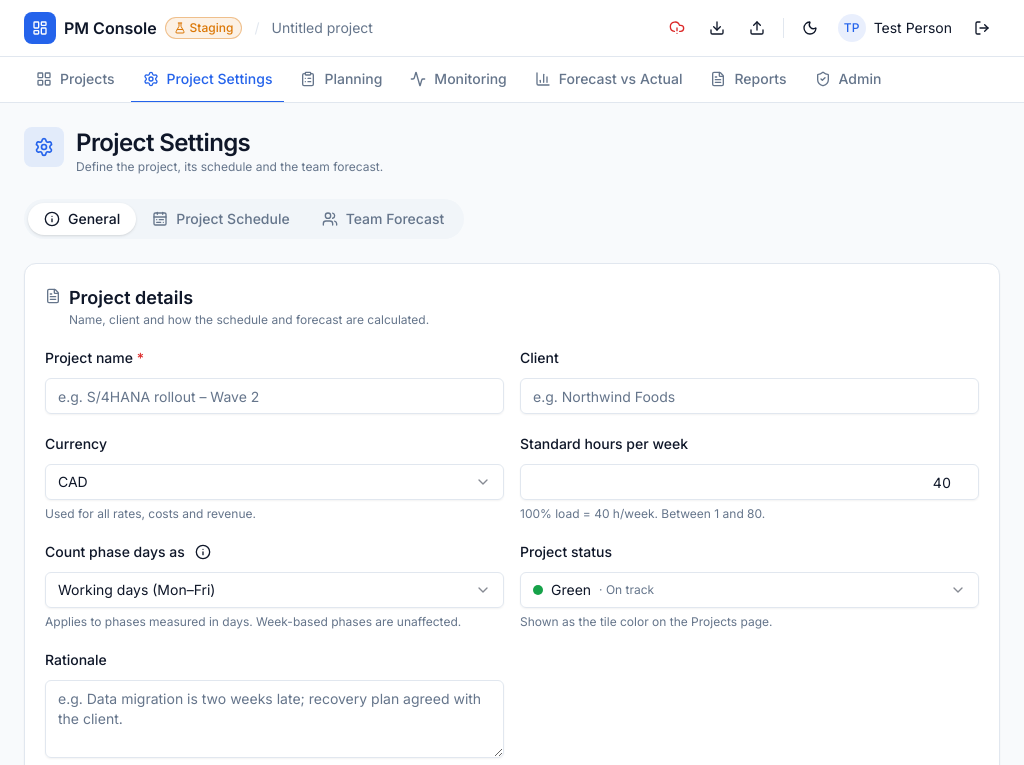
Scenario: Export / Import › downloads a JSON backup
Click the button named "Export data": (717, 28) [699, 10, 735, 46]
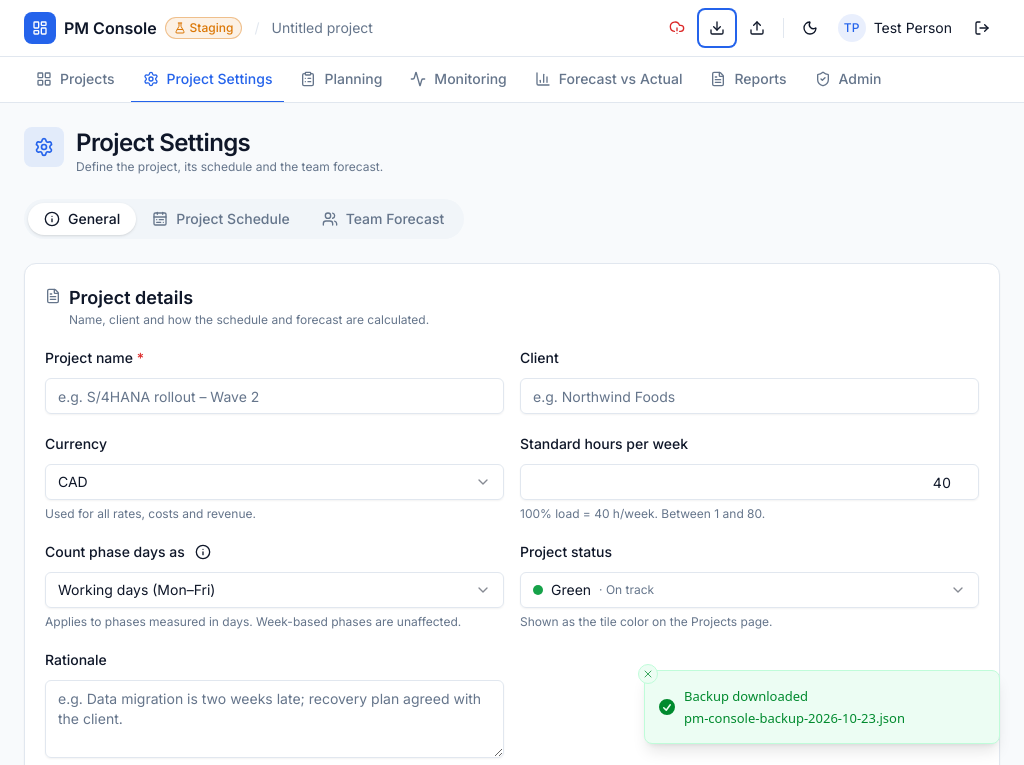
expect the text "Backup downloaded" is shown: met, box [684, 687, 808, 705]
